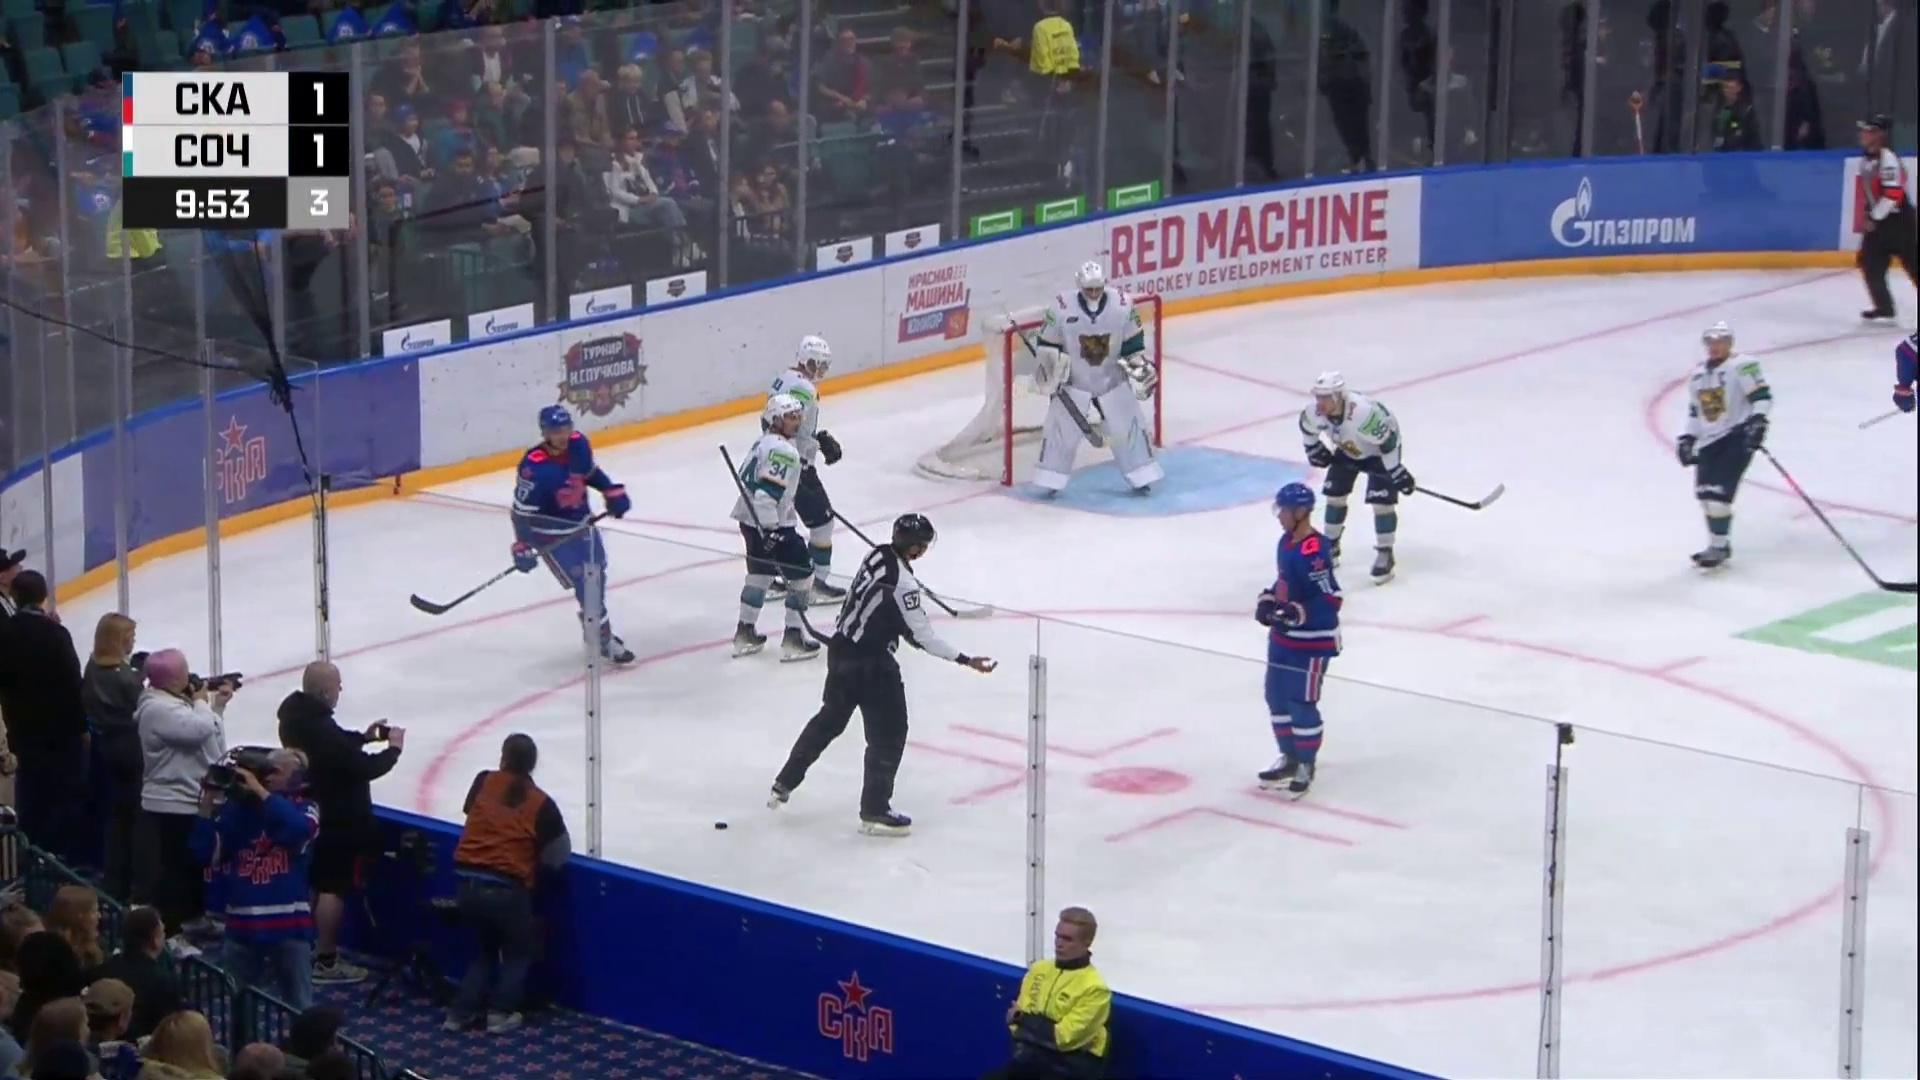ball: (715, 820, 729, 829)
